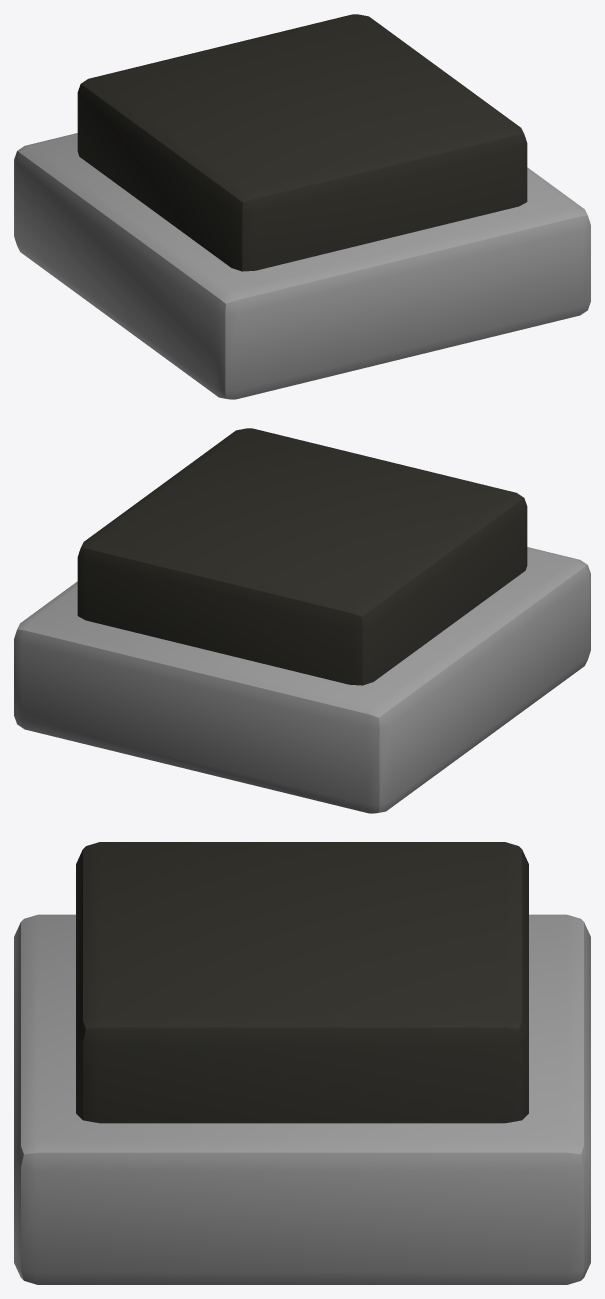
File: PushButton.obj
3 views of the same model, one above another, from view 1: azimuth 30°, elevation 25°; view 2: azimuth 150°, elevation 25°; view 3: azimuth 270°, elevation 25° (orthographic). The views are drawn at different scales.
Parts seen in each view (by area): view 1: Button_Cube.509; view 2: Button_Cube.509; view 3: Button_Cube.509.
Boxes of the visible parts, x1,y1,x2,y2 form: Button_Cube.509: (14,14,590,399); Button_Cube.509: (14,428,590,813); Button_Cube.509: (14,842,590,1284).
Bounding box in the file's own units: 0.9917 × 0.4618 × 0.9917.
